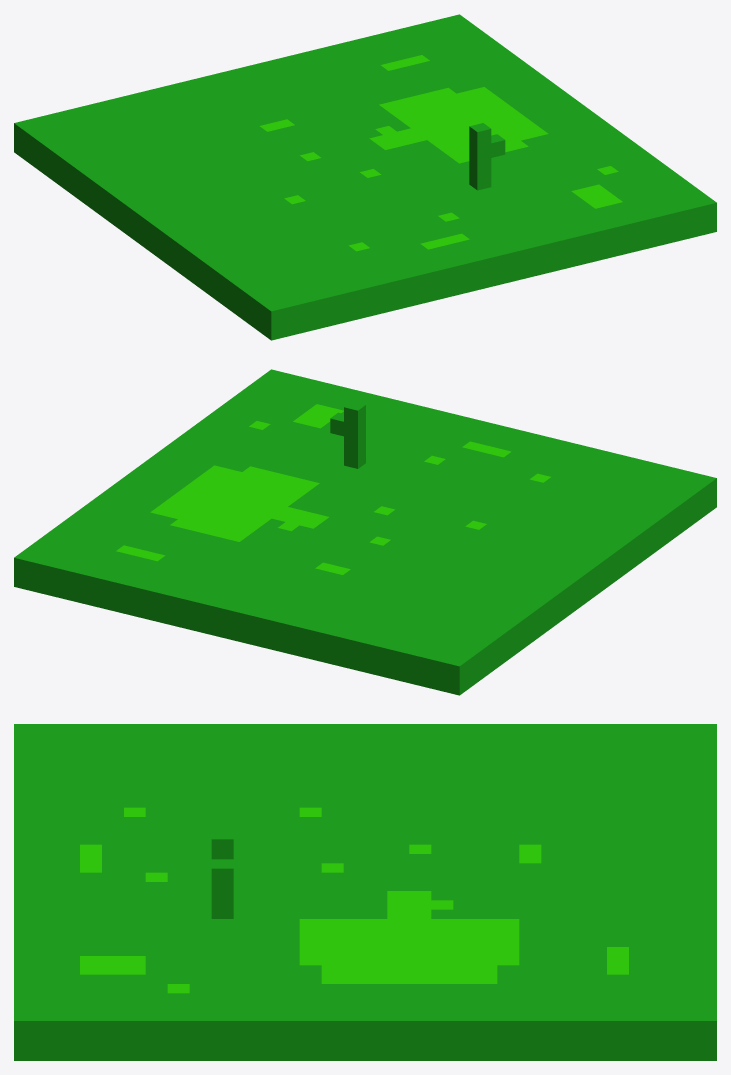
Rendered from grasbasis 1.obj.
3 views of the same model, one above another, from view 1: azimuth 30°, elevation 25°; view 2: azimuth 150°, elevation 25°; view 3: azimuth 270°, elevation 25° (orthographic). The views are drawn at different scales.
Visible parts, largest first — view 1: grasbasis; view 2: grasbasis; view 3: grasbasis.
Part boxes in pixels (<box>): grasbasis: <box>14,14,716,340</box>; grasbasis: <box>14,369,716,695</box>; grasbasis: <box>14,724,716,1060</box>.
Size of the model in its own units: 32 by 6 by 32.
1 material, 1 textured.
